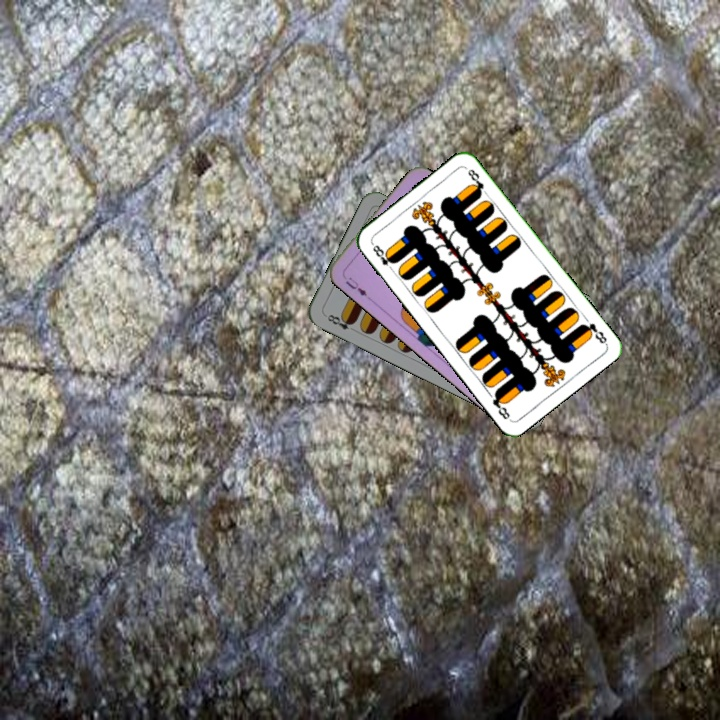E8: (368, 239, 398, 274), (321, 310, 359, 334), (577, 319, 609, 347)
EU: (341, 273, 373, 302)
